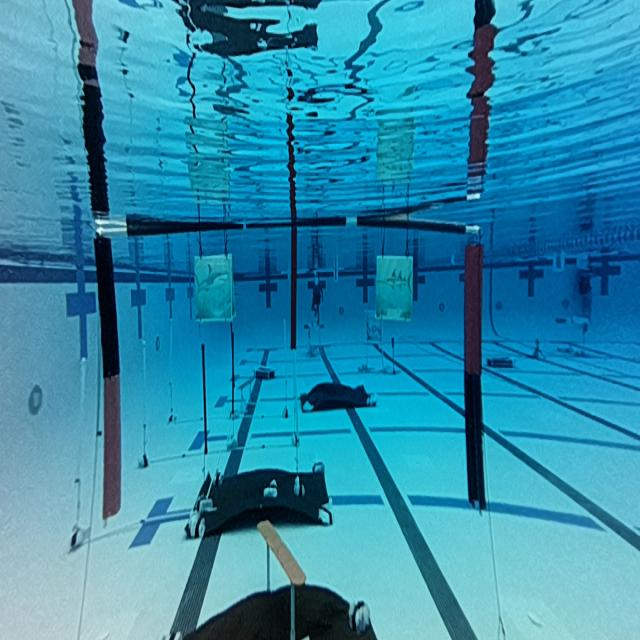pointed_nose: (376, 251, 414, 329)
round_nose: (193, 251, 237, 326)
